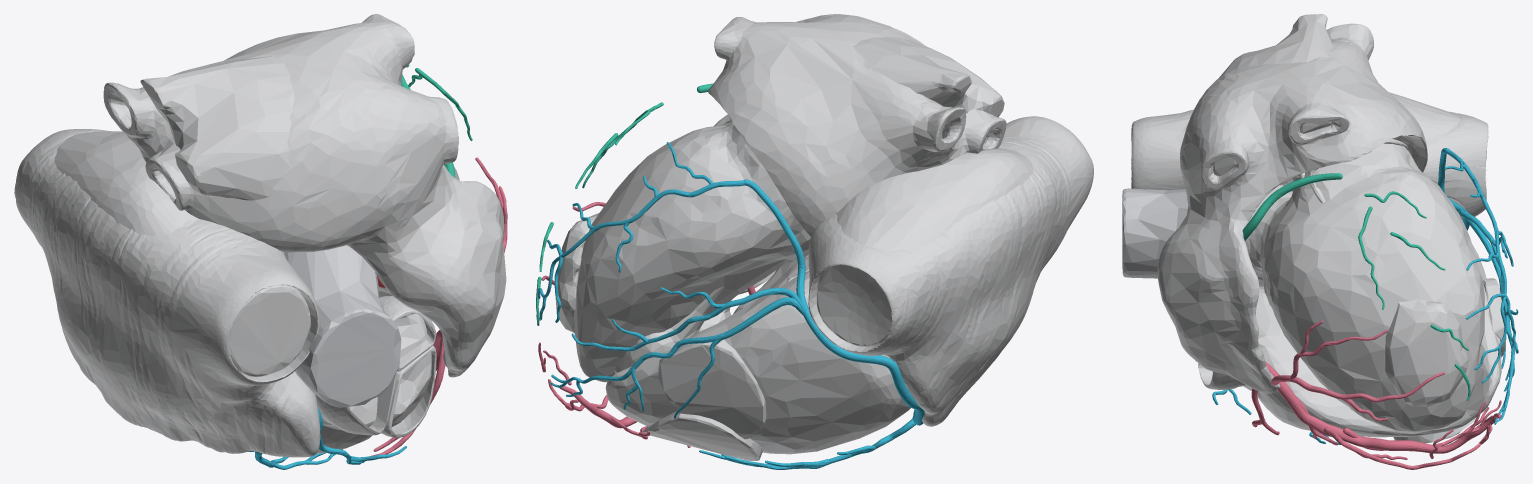
Rendered from coronary_heart_bp3d.glb.
The picture shows the model from 3 angles, left to right: view 1: azimuth 30°, elevation 25°; view 2: azimuth 150°, elevation 25°; view 3: azimuth 270°, elevation 25°; orthographic projection. The views are drawn at different scales.
Parts seen in each view (by area): view 1: Heart_Myocardium, Aorta_Root, Artery_LAD, Artery_RCA, Artery_LCX; view 2: Heart_Myocardium, Artery_RCA, Artery_LAD, Artery_LCX; view 3: Heart_Myocardium, Artery_LAD, Aorta_Root, Artery_RCA, Artery_LCX.
Part boxes in pixels (x1,y1,x2,y2): Heart_Myocardium: (14, 14, 506, 457); Aorta_Root: (284, 245, 401, 407); Artery_LAD: (368, 157, 507, 456); Artery_RCA: (247, 408, 406, 469); Artery_LCX: (401, 65, 472, 177); Heart_Myocardium: (555, 14, 1093, 460); Artery_RCA: (537, 142, 924, 469); Artery_LAD: (538, 202, 755, 447); Artery_LCX: (536, 83, 713, 325); Heart_Myocardium: (1131, 14, 1505, 443); Artery_LAD: (1251, 320, 1501, 469); Aorta_Root: (1122, 188, 1188, 278); Artery_RCA: (1212, 148, 1518, 444); Artery_LCX: (1242, 173, 1470, 400).
Bounding box in the file's own units: 1.16 × 1.06 × 1.07.
